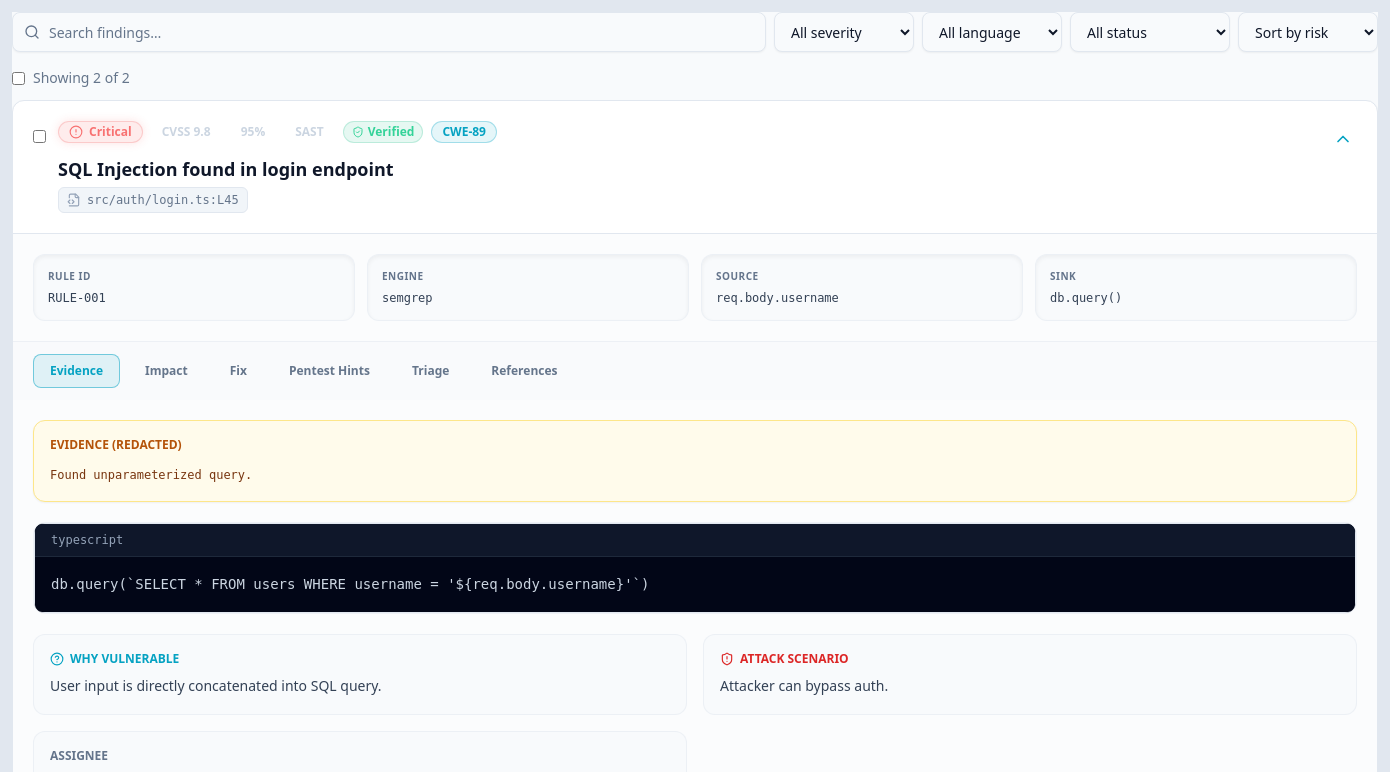
Test: FindingsPanel › filters findings by severity
The image size is (1390, 772).
Note: Change to Critical
Select "Critical" in the 1st dropdown at point(844, 32), box x1=774 y1=12 x2=914 y2=52
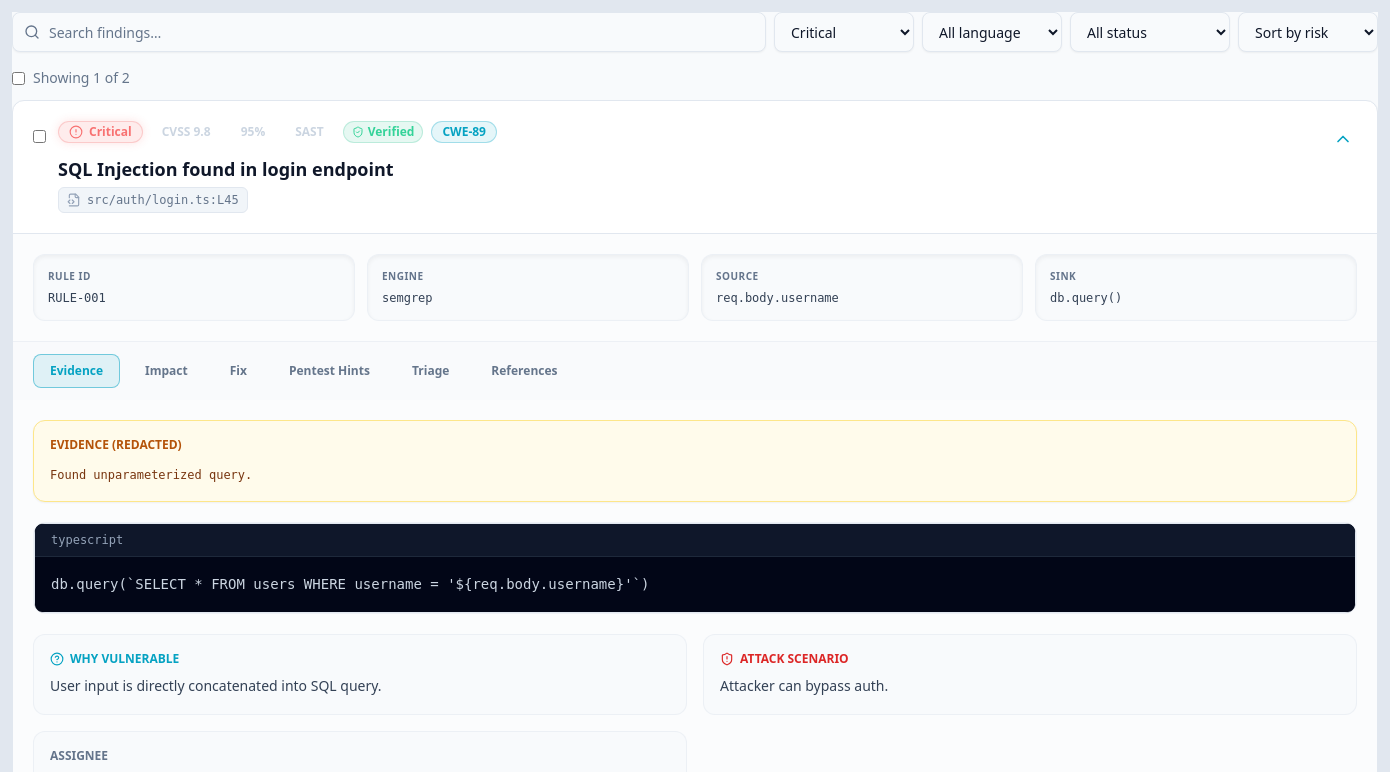
Expected: the heading "SQL Injection found in login endpoint" is shown, x1=58 y1=157 x2=394 y2=181
Expected: the text "Showing 1 of 2" is shown, x1=33 y1=68 x2=130 y2=88
